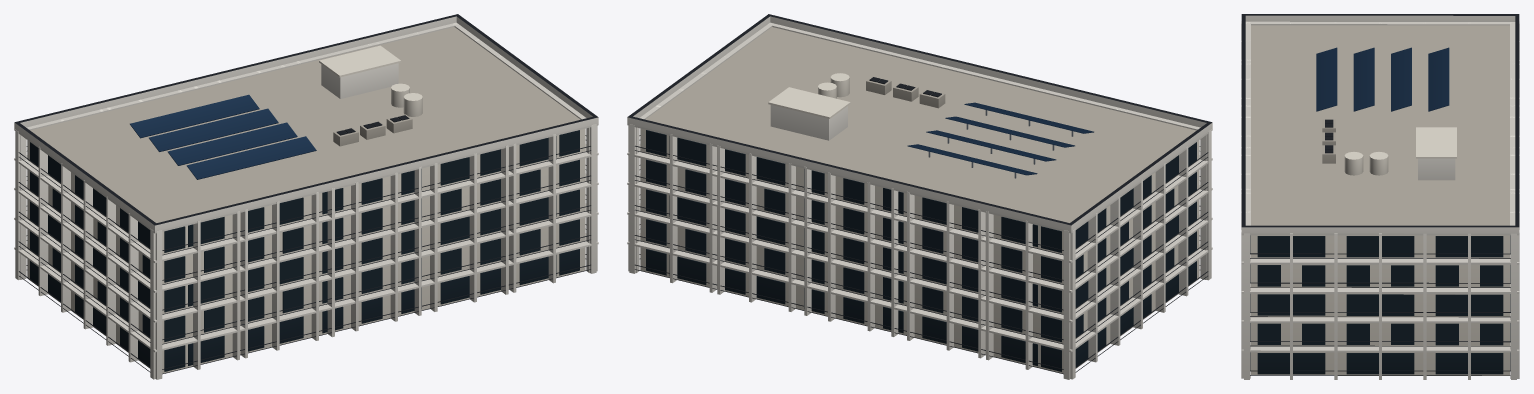
Rendered from indhu_hostel.glb.
The picture shows the model from 3 angles, left to right: view 1: azimuth 30°, elevation 25°; view 2: azimuth 150°, elevation 25°; view 3: azimuth 270°, elevation 25°; orthographic projection.
Parts seen in each view (by area): view 1: LOD0_High_StuccoWhite, LOD0_High_RoofSlabConcrete, LOD0_High_RecessedCavityGlass, LOD0_High_StuccoWarmTrim, LOD0_High_DarkAnodizedSteel, LOD0_High_SolarPV, LOD1_Medium_StuccoWhite, LOD1_Medium_RecessedCavityGlass; view 2: LOD0_High_StuccoWhite, LOD0_High_RoofSlabConcrete, LOD0_High_RecessedCavityGlass, LOD0_High_StuccoWarmTrim, LOD0_High_DarkAnodizedSteel, LOD1_Medium_StuccoWhite, LOD1_Medium_RecessedCavityGlass, LOD0_High_SolarPV; view 3: LOD0_High_RoofSlabConcrete, LOD0_High_StuccoWhite, LOD0_High_RecessedCavityGlass, LOD0_High_StuccoWarmTrim, LOD0_High_DarkAnodizedSteel, LOD0_High_SolarPV, LOD1_Medium_RecessedCavityGlass.
Boxes of the visible parts, x1,y1,x2,y2 form: LOD0_High_StuccoWhite: [14, 16, 598, 379]; LOD0_High_RoofSlabConcrete: [30, 27, 580, 222]; LOD0_High_RecessedCavityGlass: [30, 130, 579, 371]; LOD0_High_StuccoWarmTrim: [27, 45, 585, 373]; LOD0_High_DarkAnodizedSteel: [14, 14, 598, 374]; LOD0_High_SolarPV: [130, 94, 316, 179]; LOD1_Medium_StuccoWhite: [107, 44, 508, 358]; LOD1_Medium_RecessedCavityGlass: [48, 136, 556, 365]; LOD0_High_StuccoWhite: [627, 16, 1212, 379]; LOD0_High_RoofSlabConcrete: [645, 27, 1196, 222]; LOD0_High_RecessedCavityGlass: [646, 130, 1196, 371]; LOD0_High_StuccoWarmTrim: [640, 73, 1199, 373]; LOD0_High_DarkAnodizedSteel: [627, 14, 1212, 374]; LOD1_Medium_StuccoWhite: [717, 45, 1117, 358]; LOD1_Medium_RecessedCavityGlass: [669, 136, 1178, 365]; LOD0_High_SolarPV: [907, 102, 1093, 175]; LOD0_High_RoofSlabConcrete: [1251, 25, 1509, 225]; LOD0_High_StuccoWhite: [1241, 15, 1519, 379]; LOD0_High_RecessedCavityGlass: [1250, 235, 1510, 374]; LOD0_High_StuccoWarmTrim: [1251, 127, 1509, 375]; LOD0_High_DarkAnodizedSteel: [1241, 14, 1519, 375]; LOD0_High_SolarPV: [1316, 47, 1449, 111]; LOD1_Medium_RecessedCavityGlass: [1279, 236, 1481, 374].
Bounding box in the file's own units: 56.34 × 20.97 × 31.01.
